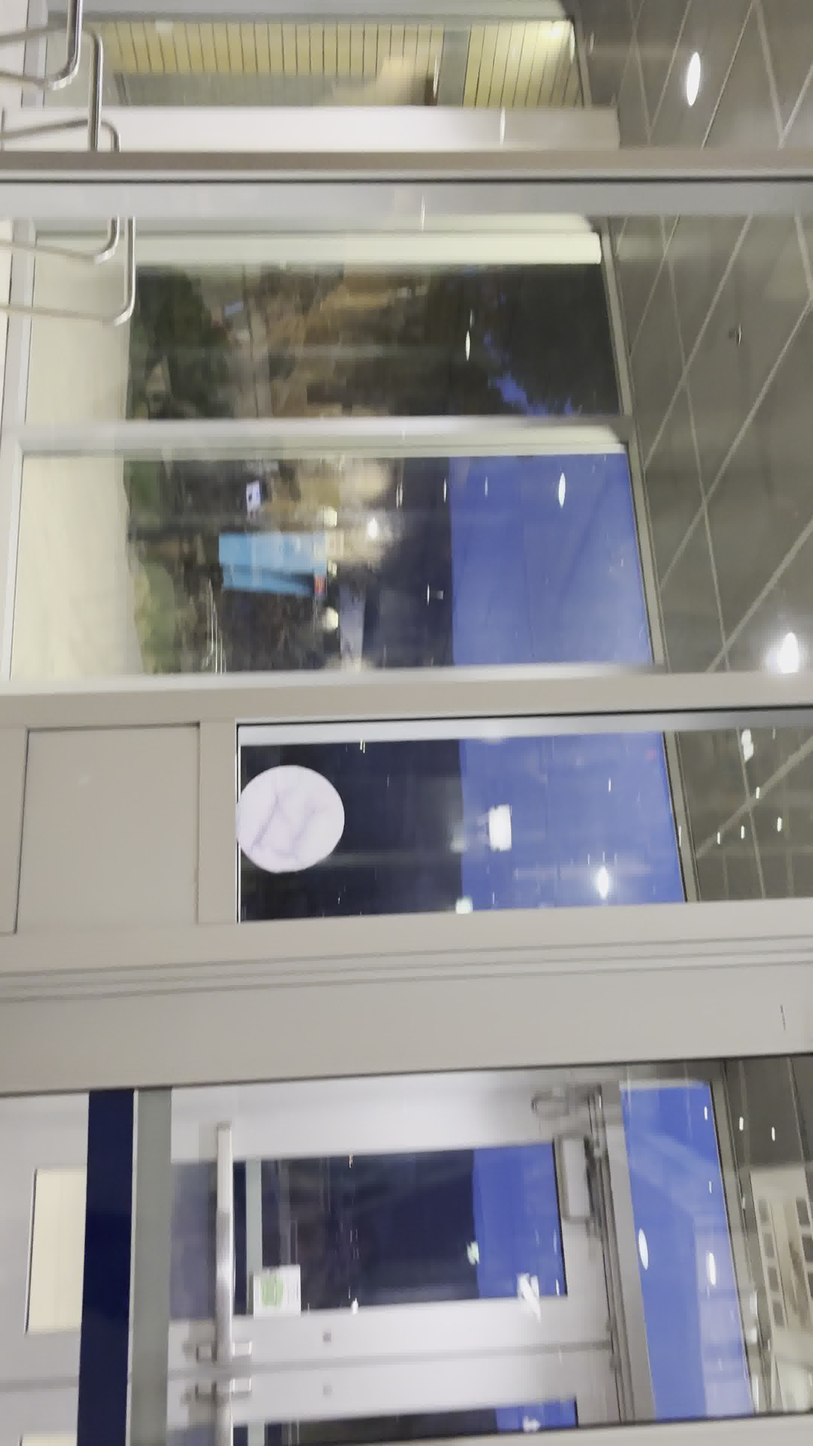Target: (233, 763, 348, 876)
